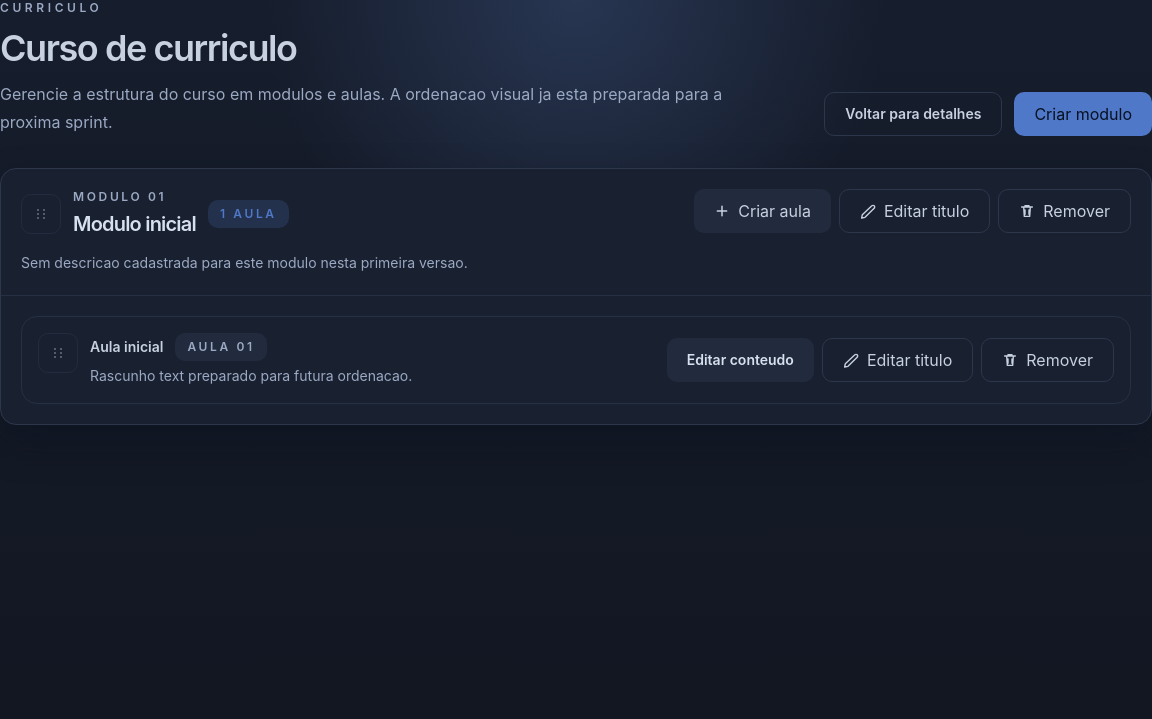
it: CourseCurriculumScreen › creates a module and renders it in the list
Expected: the heading "Modulo inicial" is shown, [73,209,196,239]
Click the button "Criar modulo" at (1083,114), box [1014,92,1151,136]
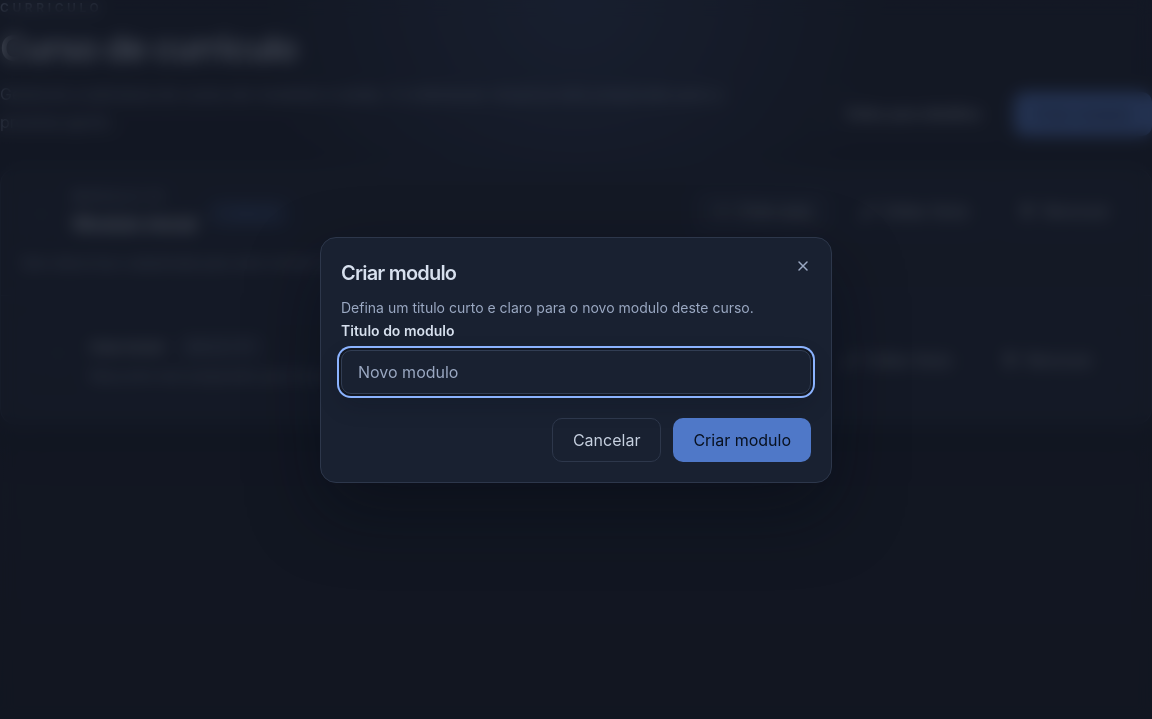
Type "Modulo avancado" into the field labelled "Titulo do modulo" at (576,372), box [341,350,811,394]
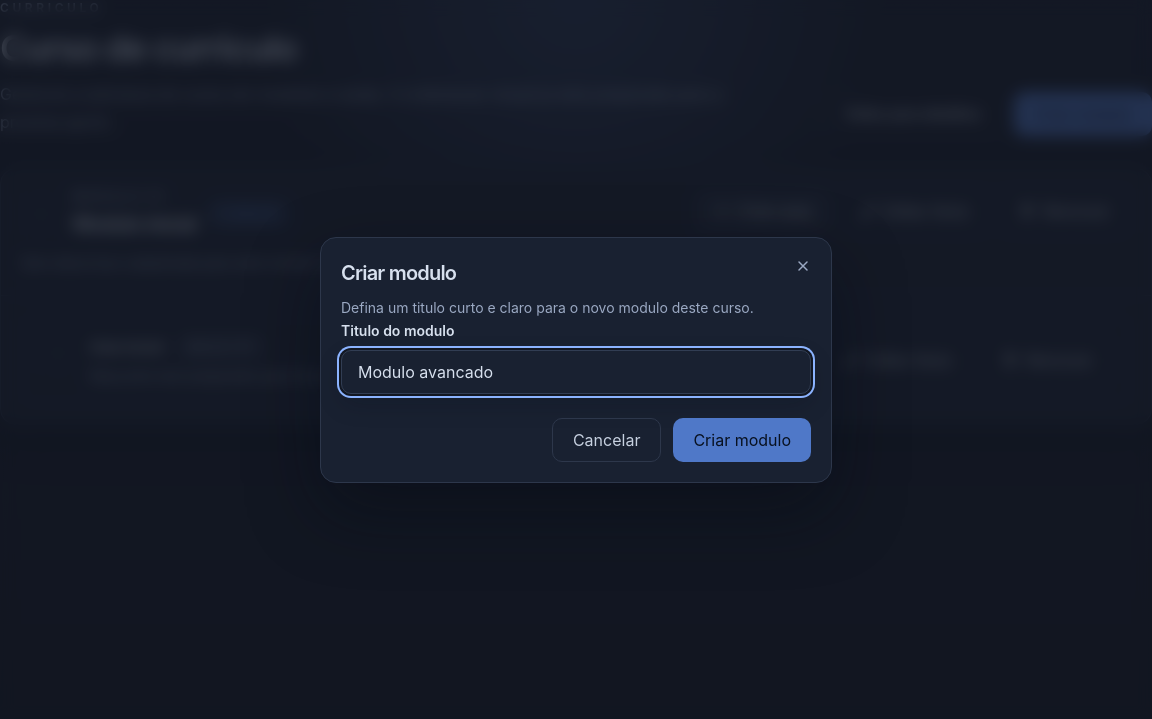
Click the button "Criar modulo" at (742,440), box [673,418,811,462]
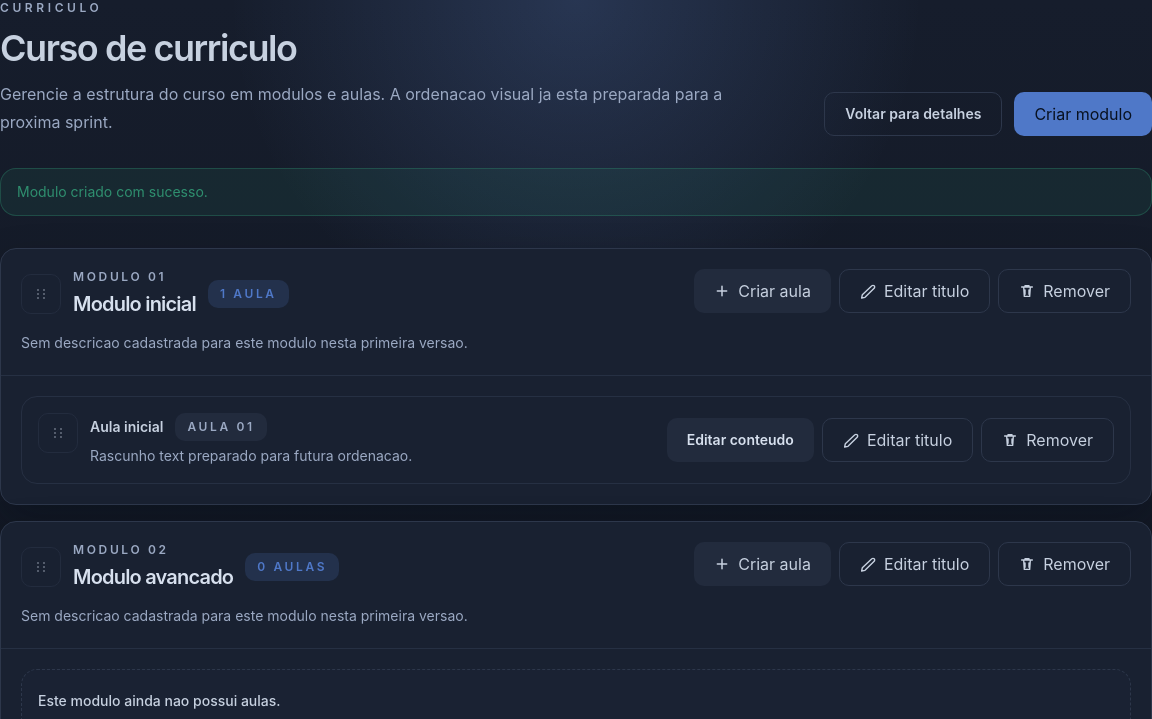
Expected: the heading "Modulo avancado" is shown, [73,562,233,592]
